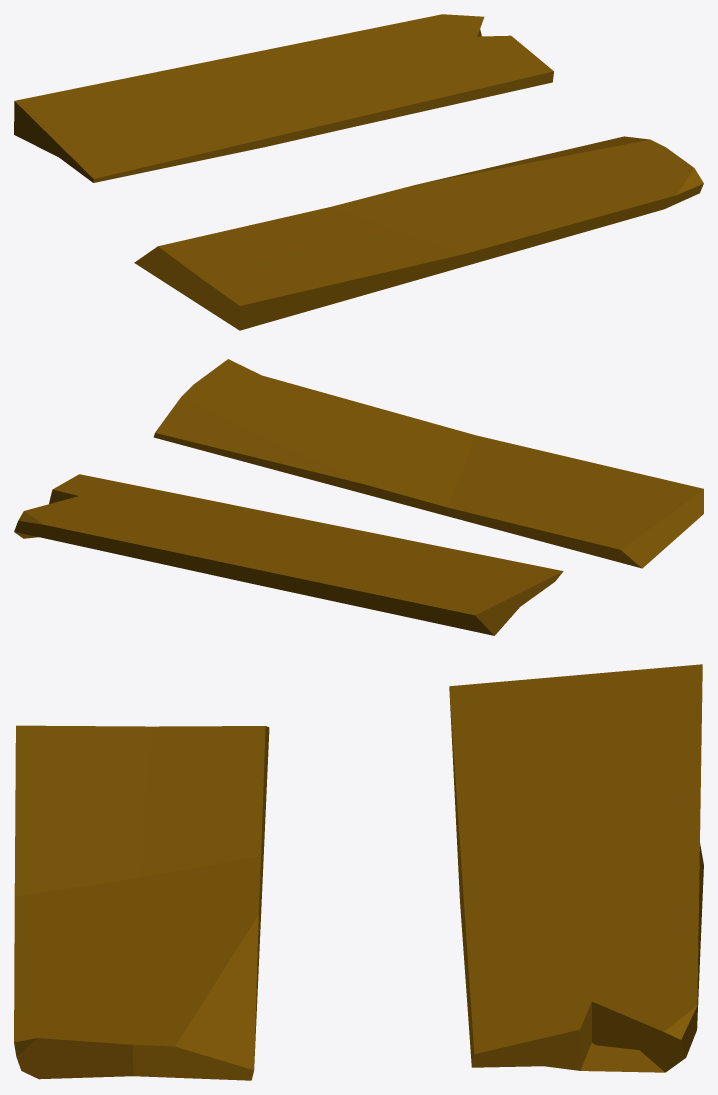
Rendered from Wooden board.fbx.
3 renders of one model, top to bottom at view 1: azimuth 30°, elevation 25°; view 2: azimuth 150°, elevation 25°; view 3: azimuth 270°, elevation 25°, orthographic. The views are drawn at different scales.
Parts seen in each view (by area): view 1: wood_plank1, wood_plank2; view 2: wood_plank1, wood_plank2; view 3: wood_plank2, wood_plank1.
Boxes of the visible parts, x1=… form: wood_plank1: x1=134, y1=136, x2=703, y2=330; wood_plank2: x1=14, y1=14, x2=553, y2=182; wood_plank1: x1=153, y1=359, x2=703, y2=568; wood_plank2: x1=14, y1=474, x2=563, y2=635; wood_plank2: x1=449, y1=664, x2=703, y2=1072; wood_plank1: x1=14, y1=725, x2=269, y2=1080.
Size of the model in its own units: 103 by 13.13 by 82.92.
